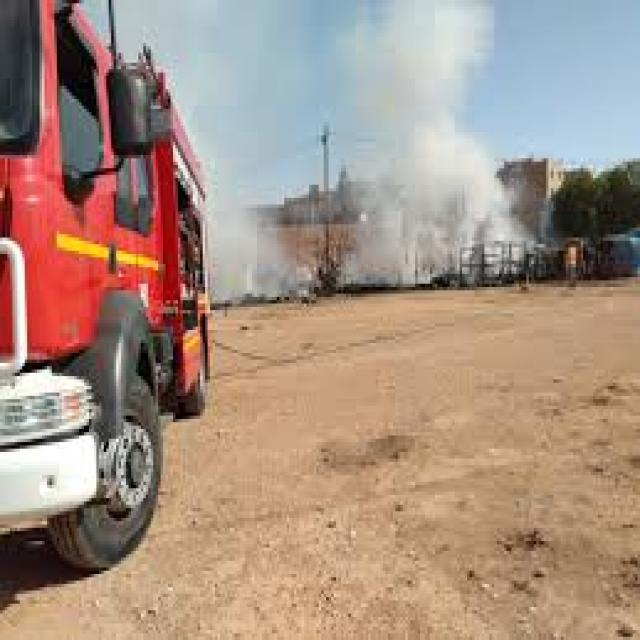pompier: (7, 6, 208, 558)
